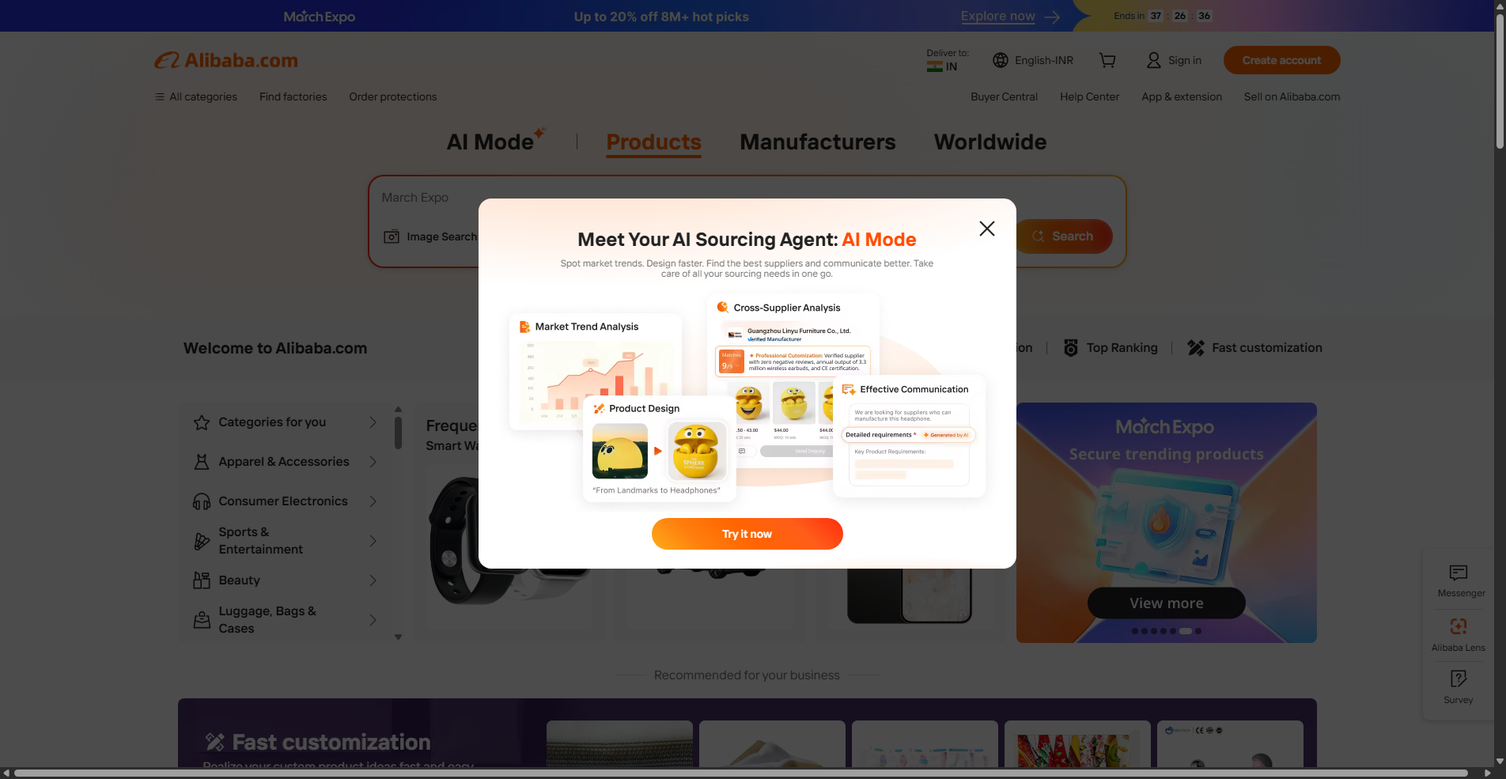button: (1071, 186, 1203, 224), (360, 387, 471, 426), (382, 214, 477, 259), (252, 276, 394, 304), (1011, 219, 1112, 254), (1224, 46, 1340, 74), (1429, 661, 1488, 713)
link: (178, 698, 1317, 779), (142, 403, 443, 643), (715, 403, 1016, 643), (1016, 403, 1317, 643), (417, 403, 717, 643), (0, 403, 281, 643), (11, 403, 212, 643), (212, 403, 413, 643), (413, 403, 614, 643), (614, 403, 815, 643), (815, 403, 1016, 643), (1016, 403, 1217, 643), (1217, 403, 1418, 643), (1317, 403, 1506, 643), (0, 403, 114, 643), (782, 149, 1059, 244), (1071, 149, 1348, 244), (782, 260, 1059, 355), (1071, 260, 1348, 355), (379, 149, 601, 263), (632, 149, 854, 263), (1418, 403, 1506, 643), (360, 219, 531, 333), (547, 219, 718, 333), (734, 219, 904, 333), (1092, 320, 1189, 439), (835, 320, 932, 439), (578, 320, 675, 439), (1092, 494, 1189, 613), (835, 494, 932, 613), (578, 494, 675, 613), (1092, 632, 1189, 751), (835, 632, 932, 751), (578, 632, 675, 751), (1092, 183, 1189, 301), (835, 183, 932, 301), (578, 183, 675, 301), (1221, 320, 1317, 439), (964, 320, 1060, 439), (707, 320, 803, 439), (450, 320, 546, 439), (1221, 494, 1317, 613), (964, 494, 1060, 613), (707, 494, 803, 613), (450, 494, 546, 613), (1221, 632, 1317, 751), (964, 632, 1060, 751), (707, 632, 803, 751), (450, 632, 546, 751), (1221, 183, 1317, 301), (964, 183, 1060, 301), (707, 183, 803, 301), (450, 183, 546, 301), (546, 720, 699, 779), (851, 720, 1004, 779), (1004, 720, 1157, 779), (1309, 720, 1462, 779), (699, 720, 851, 779), (1157, 720, 1309, 779), (950, 149, 1115, 183), (950, 183, 1115, 216), (950, 216, 1115, 249), (639, 236, 815, 263), (739, 128, 896, 155), (864, 337, 1047, 359), (1172, 337, 1322, 359), (1429, 609, 1488, 661), (934, 128, 1047, 155), (447, 127, 548, 157), (1047, 337, 1172, 359), (0, 403, 11, 643), (1183, 457, 1317, 473), (1117, 264, 1266, 277), (639, 278, 762, 291), (401, 207, 508, 220), (1183, 769, 1317, 779), (1117, 236, 1226, 248), (162, 179, 261, 191), (401, 179, 500, 191), (639, 179, 727, 191), (1117, 207, 1193, 220), (639, 207, 714, 220), (698, 245, 763, 260), (162, 207, 236, 220), (878, 236, 958, 248), (878, 179, 956, 191), (878, 264, 938, 277), (1117, 179, 1164, 191), (878, 207, 906, 220), (1099, 56, 1123, 69)
textarea: (382, 189, 1112, 206)
